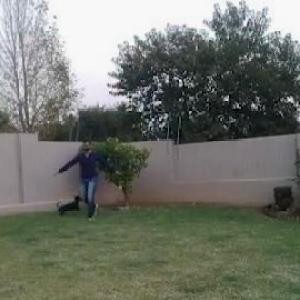land: (69, 126, 142, 226)
